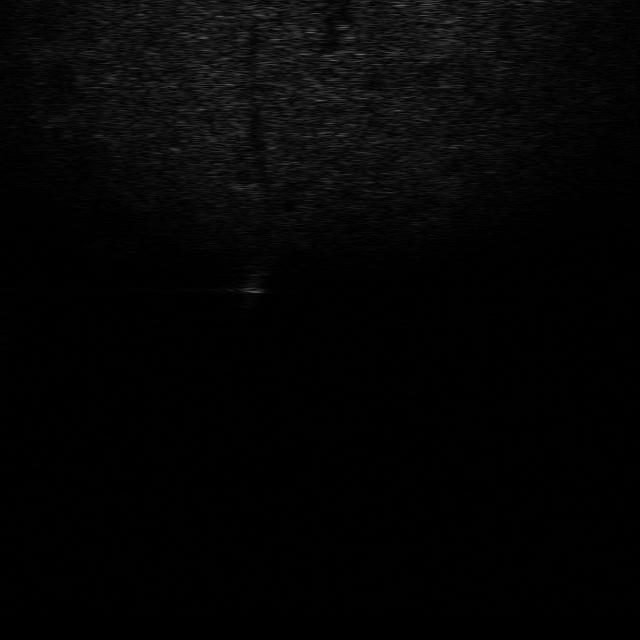human body: (236, 258, 272, 314)
